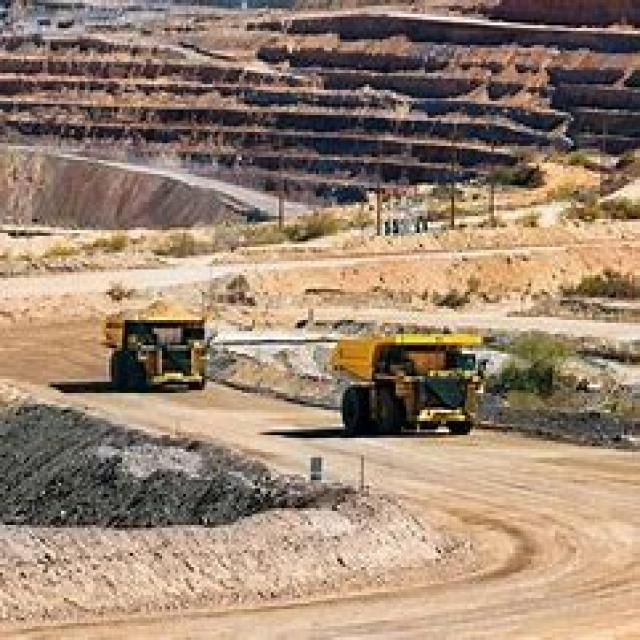dump_truck: (327, 320, 491, 444), (98, 292, 215, 396)
